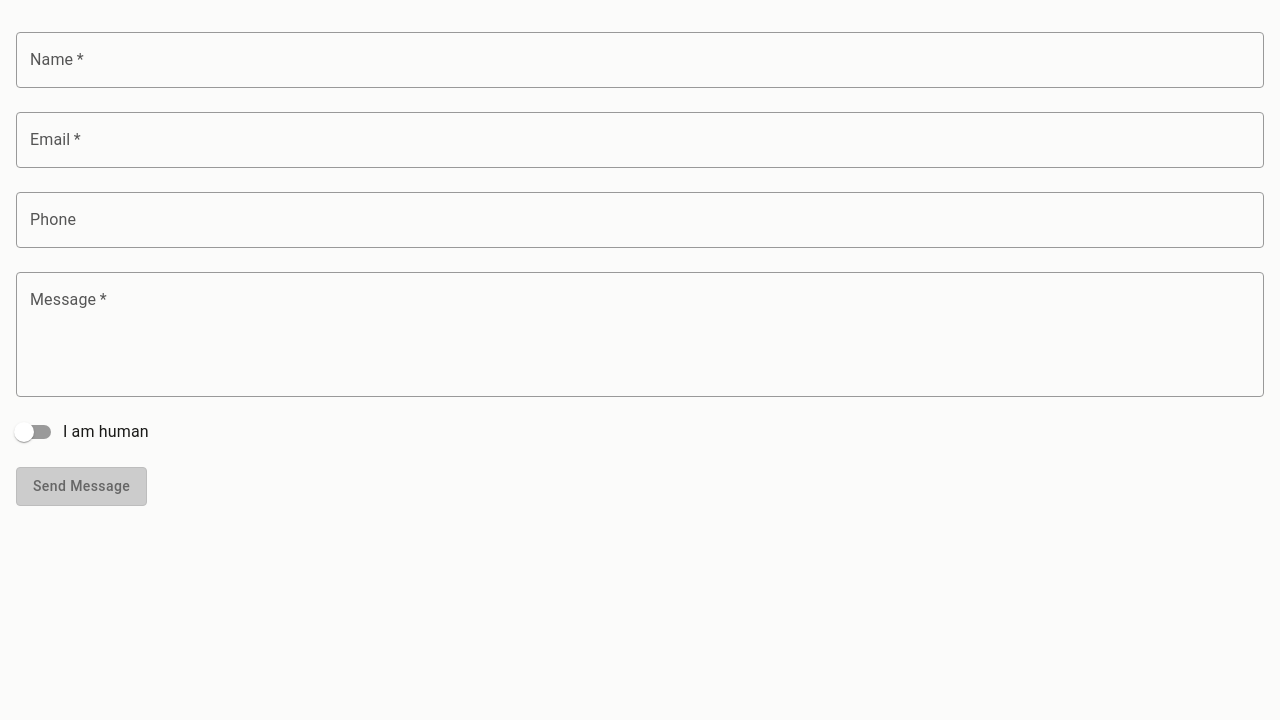
Test: ContactForm › shows success message on successful submit
In the field labelled "Name *": point(640, 60) [16, 32, 1264, 88], type "John Doe"
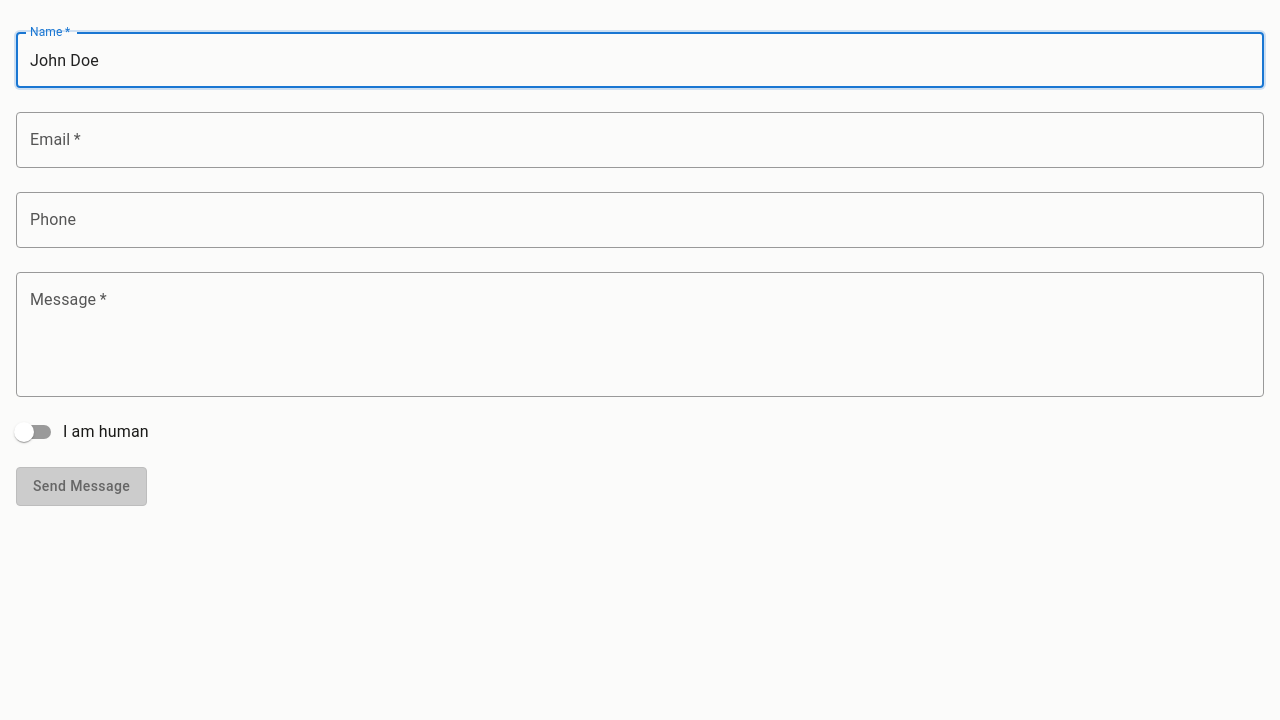
In the field labelled "Email *": point(640, 140) [16, 112, 1264, 168], type "john@example.com"
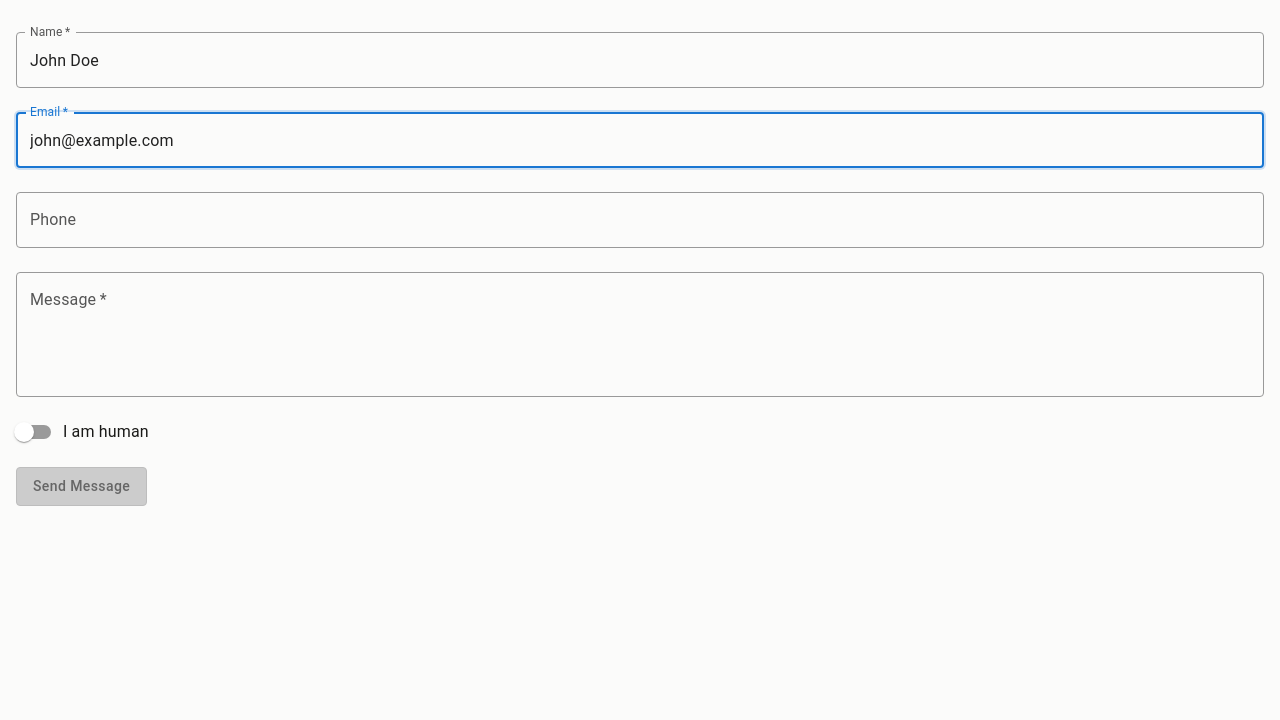
In the text box labelled "Message *": point(640, 334) [30, 288, 1250, 380], type "Hello there!"
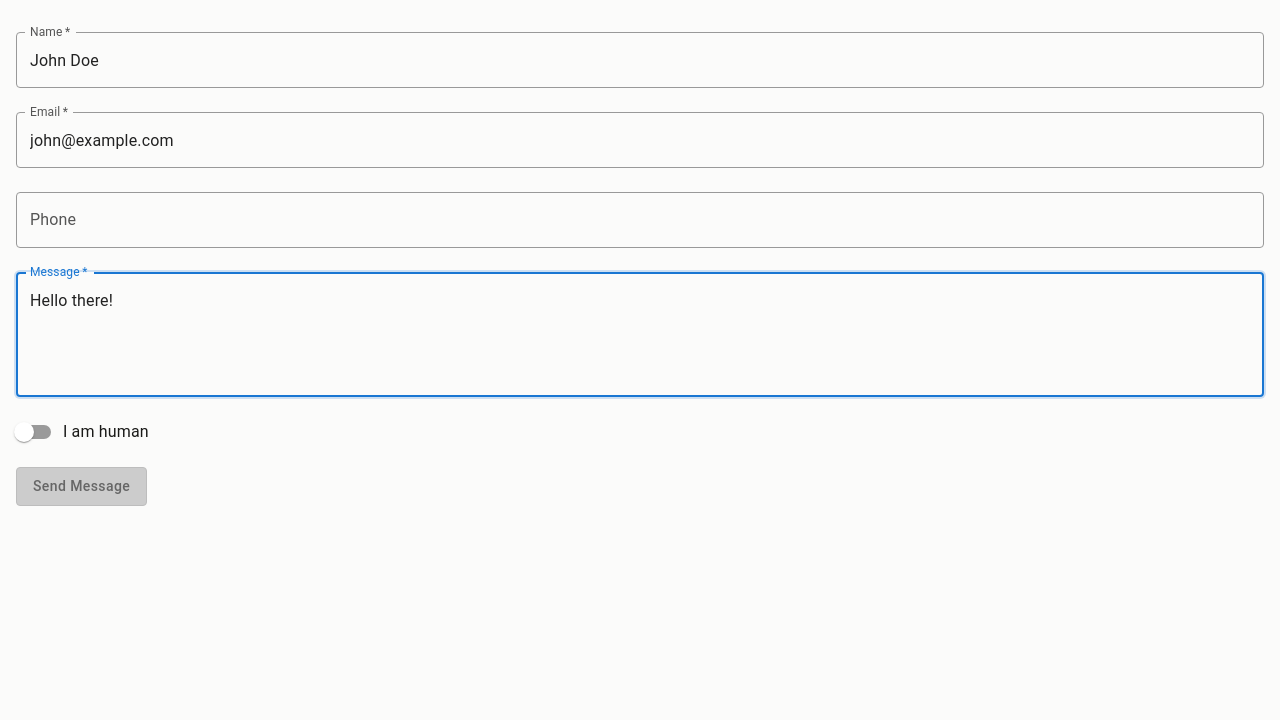
Click the switch labelled "I am human": point(81, 432) [14, 422, 149, 442]
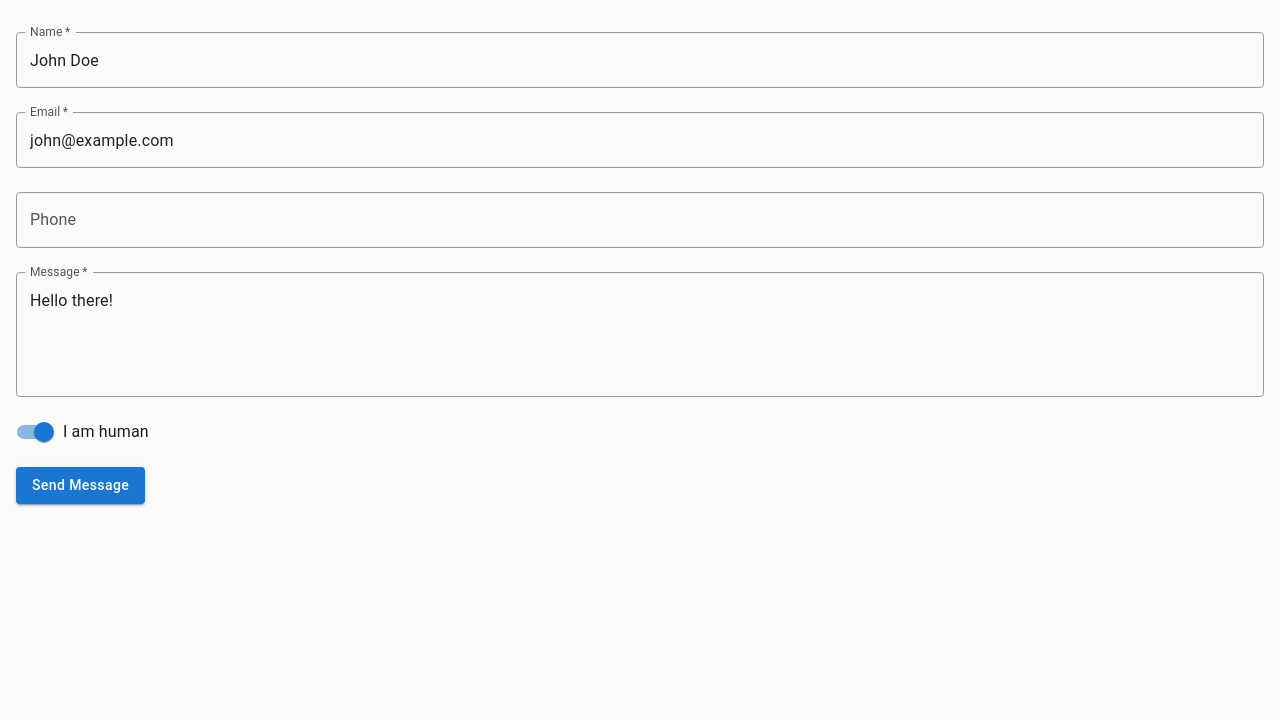
Expected: the button "Send Message" is enabled
Click the button "Send Message": point(81, 485) [16, 467, 145, 504]
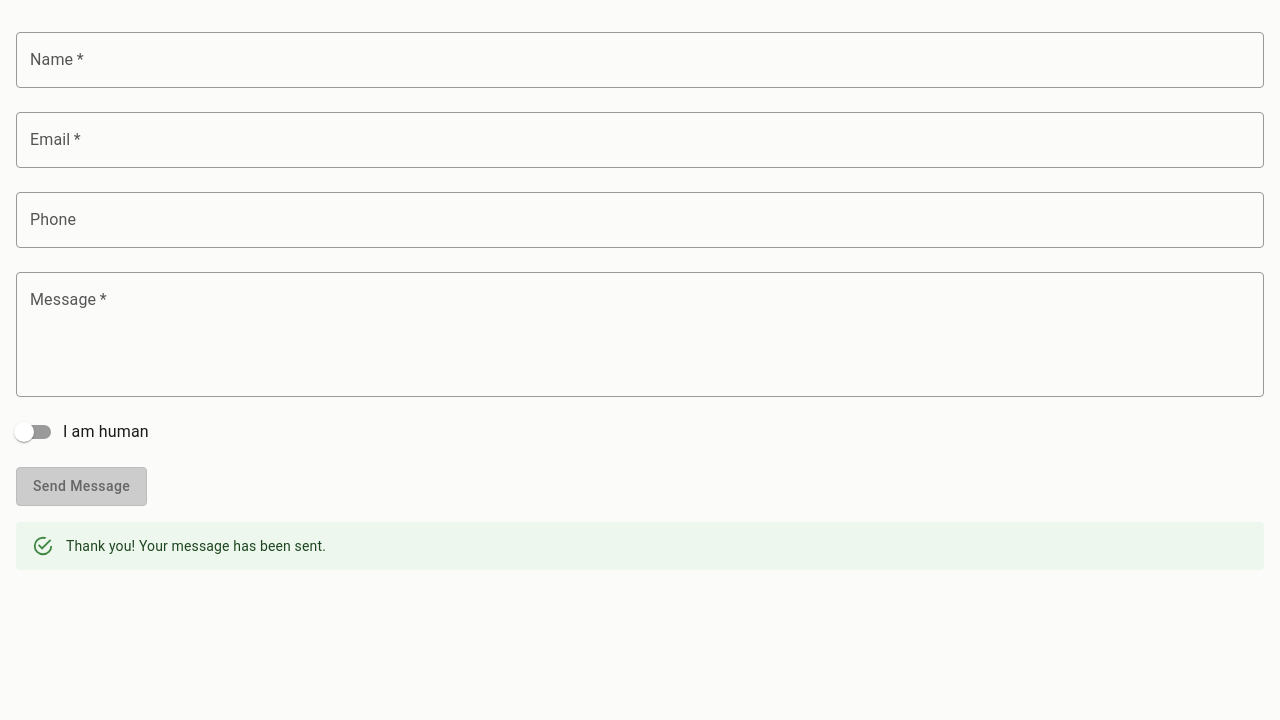
Expected: the text "Thank you! Your message has been sent." is shown, [66, 538, 326, 554]
